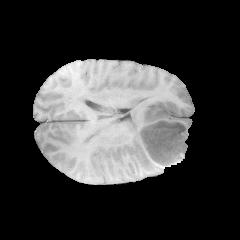glioma: (127, 99, 191, 172)
